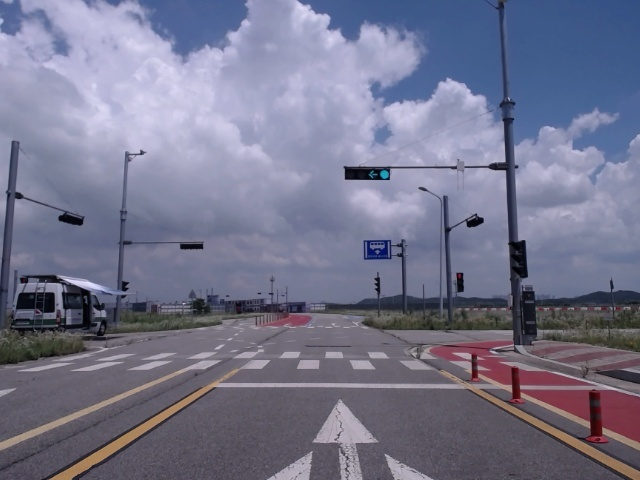all_green_4: (343, 165, 388, 180)
